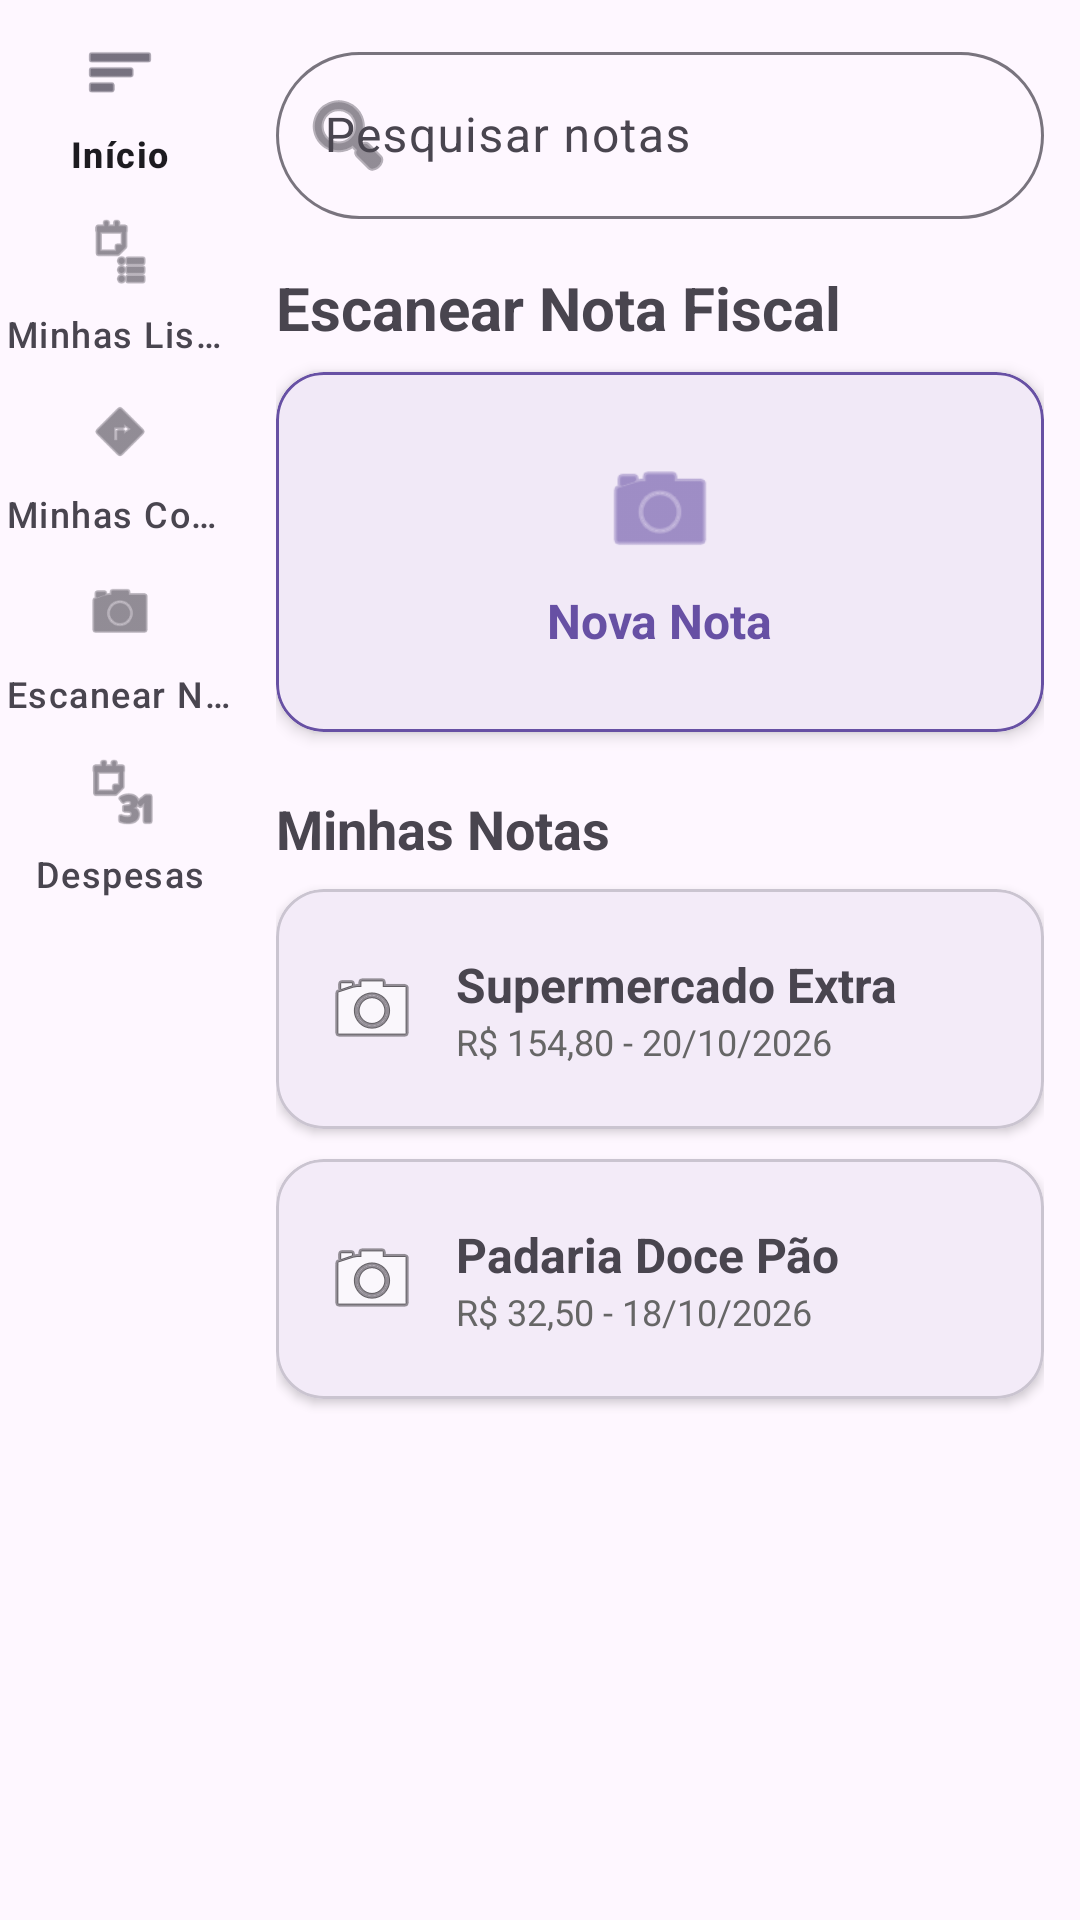

Point at icon controls on the screen. Image size 1080 × 1920, points as point (x, y).
camera: point (660, 508), point (372, 1007), point (372, 1277)
